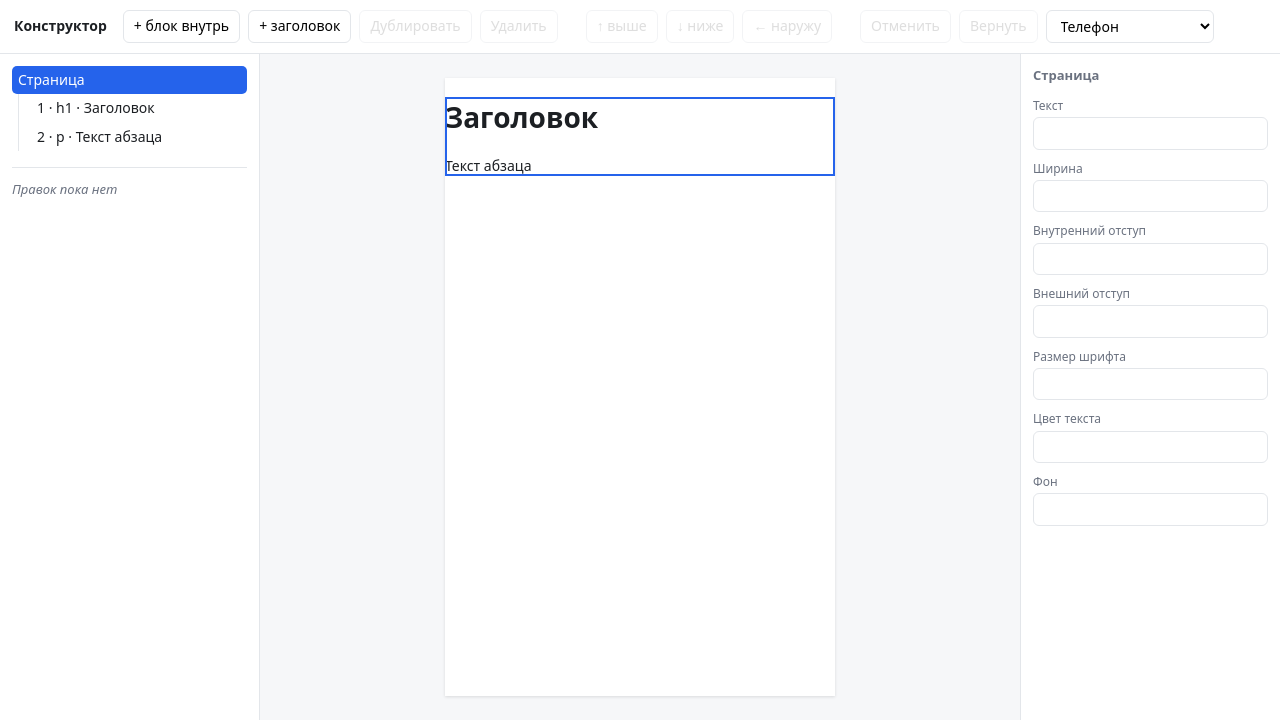
Test case: редактор целиком › правка текста в панели сразу видна на холсте
Click the heading "Заголовок" at (522, 117), box [445,98,598,136]
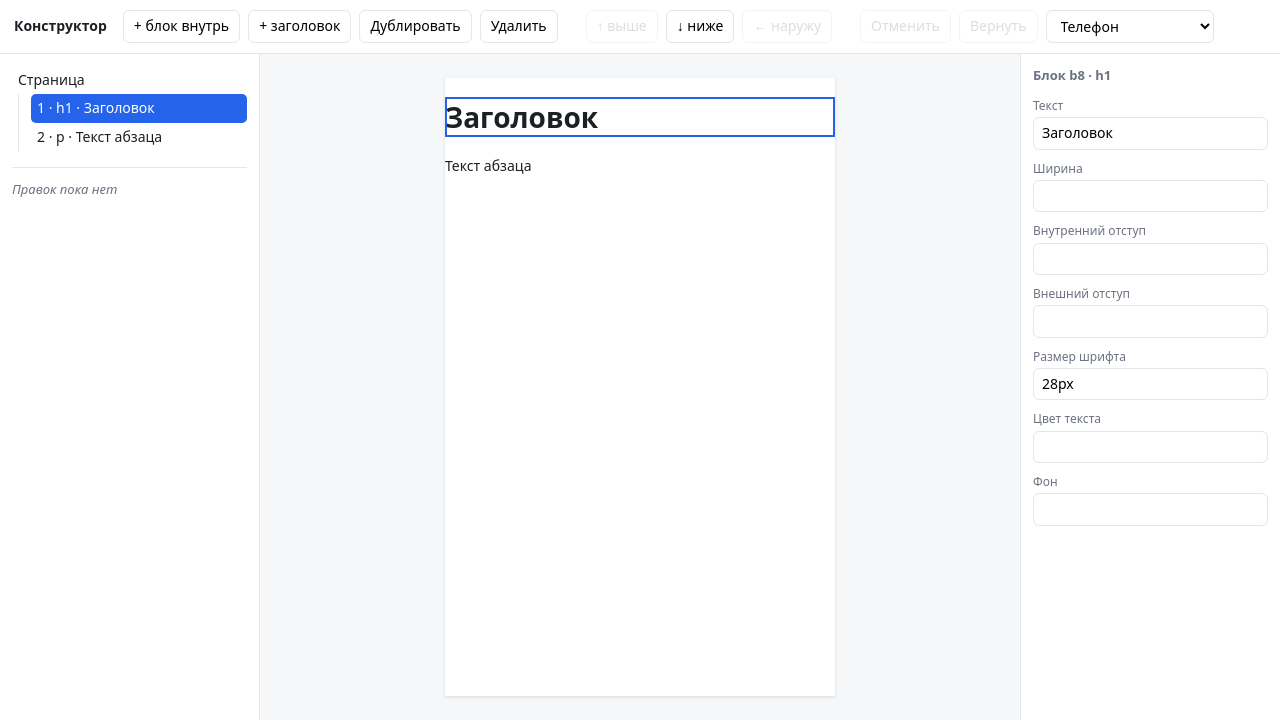
Replace the text in the field labelled "Текст" with "Привет" at (1150, 133), box [1033,117,1268,150]
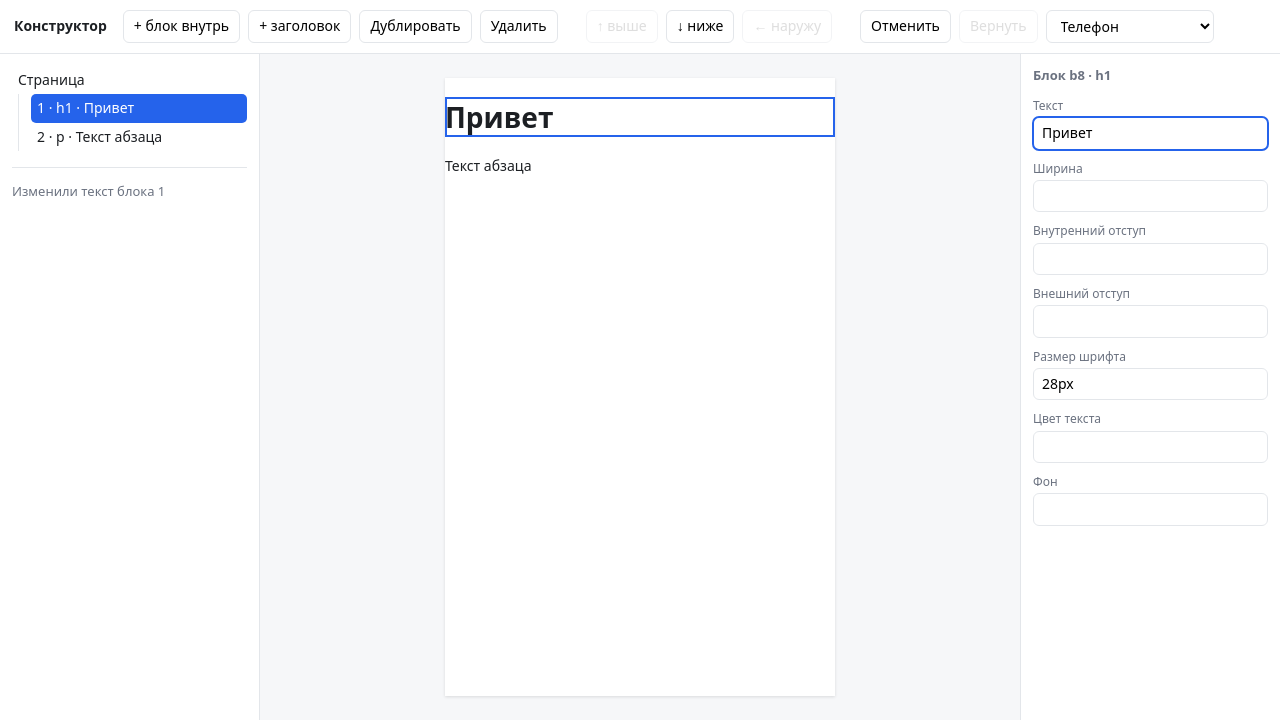
Now the heading "Привет" is shown, box [445,98,553,136]
